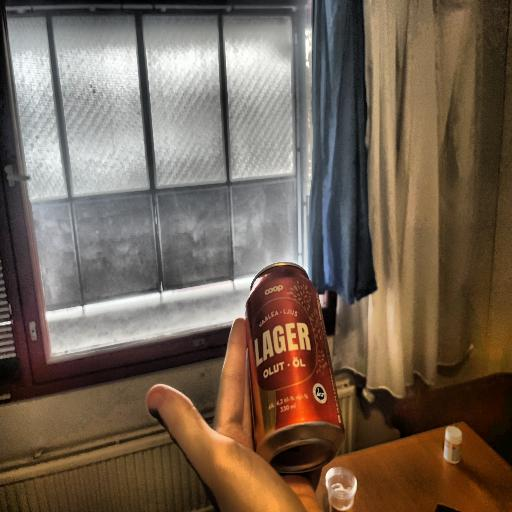coop_larger: (237, 256, 346, 473)
